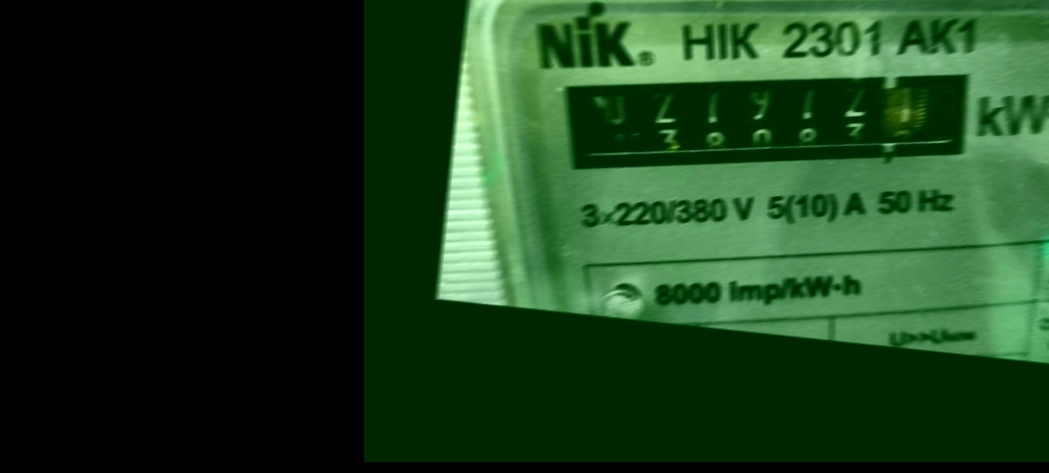0: (599, 87, 630, 126)
1: (893, 81, 920, 126)
2: (648, 83, 681, 125), (840, 79, 871, 119)
7: (792, 79, 822, 123), (698, 85, 725, 125)
9: (746, 83, 775, 121)
screen: (539, 21, 1005, 221)
